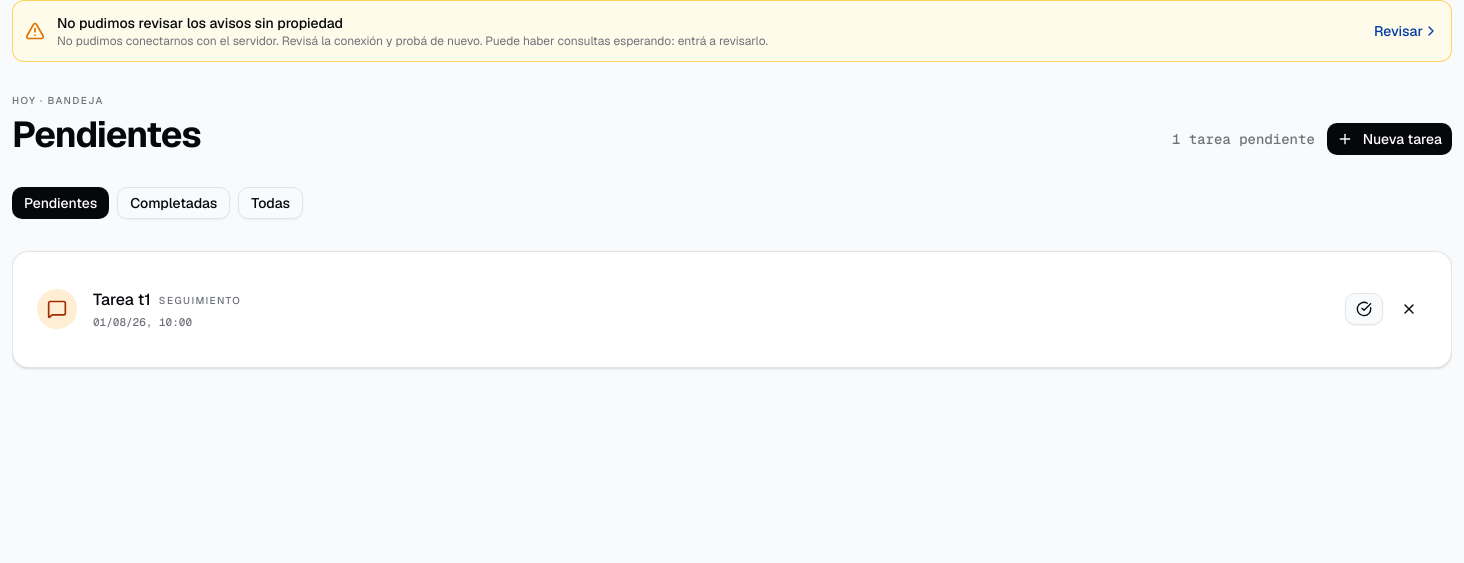
Test: /tasks — D14: la fila sale de la pantalla solo si el servidor confirmó › con 200 sí la saca (el camino feliz sigue igual)
Expected: the text "Tarea t1" is shown, [93,288,151,312]
Click the button named "Completar tarea": (1364, 309) [1345,293,1383,325]
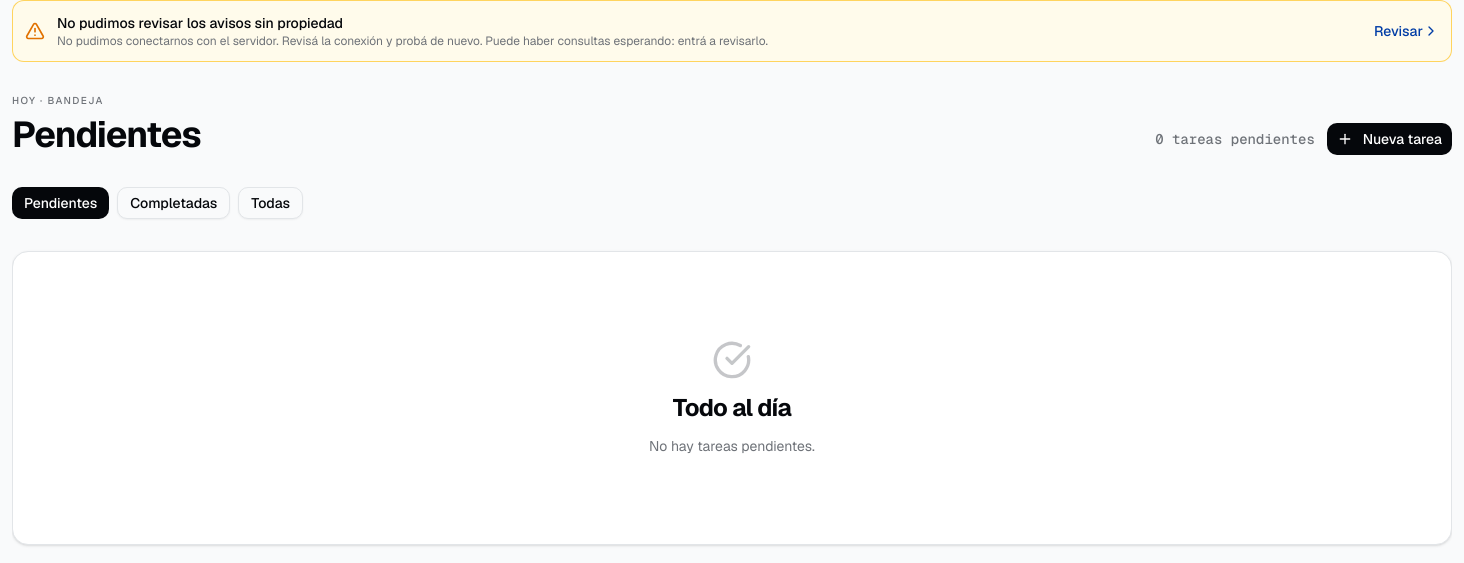
Expected: the text "Tarea t1" is gone
